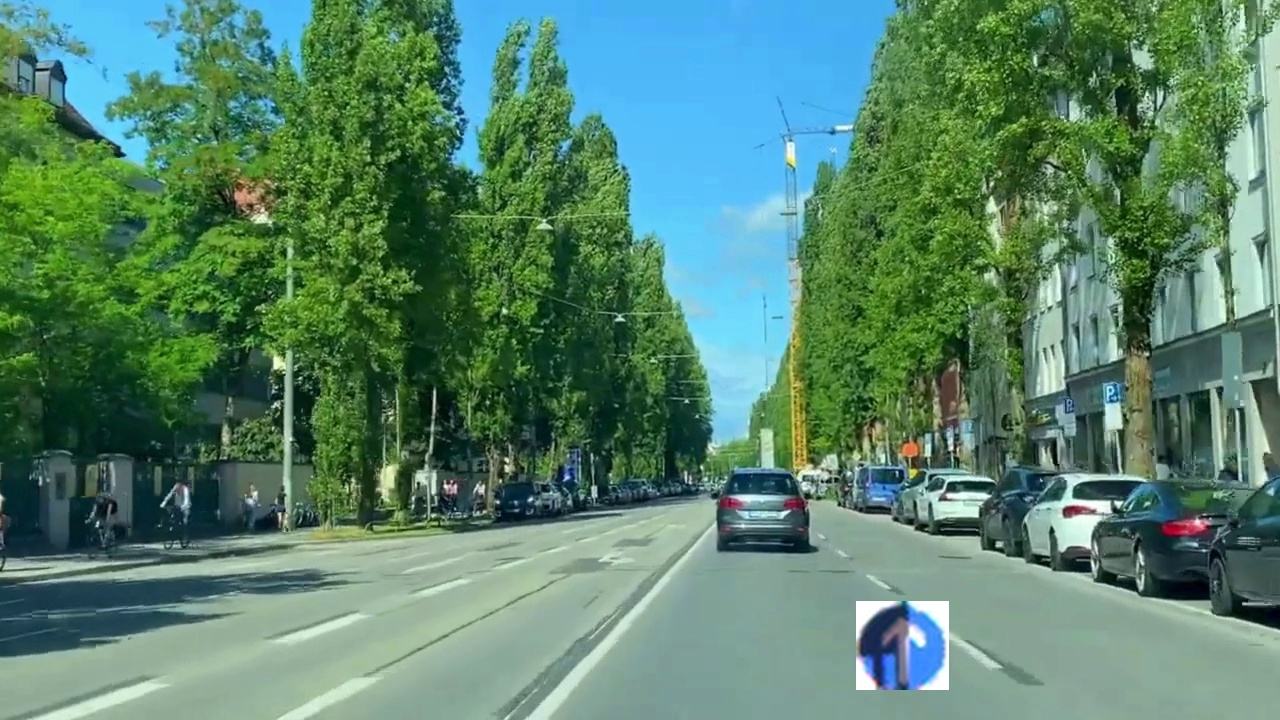Ahead only: (856, 601, 949, 690)
